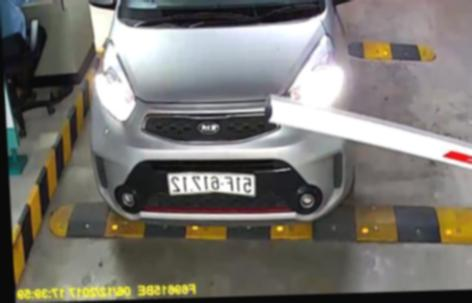License_Plate: (164, 168, 263, 201)
